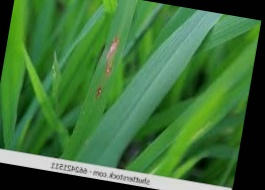Brown_Spot: (106, 31, 119, 75), (93, 79, 105, 99)
